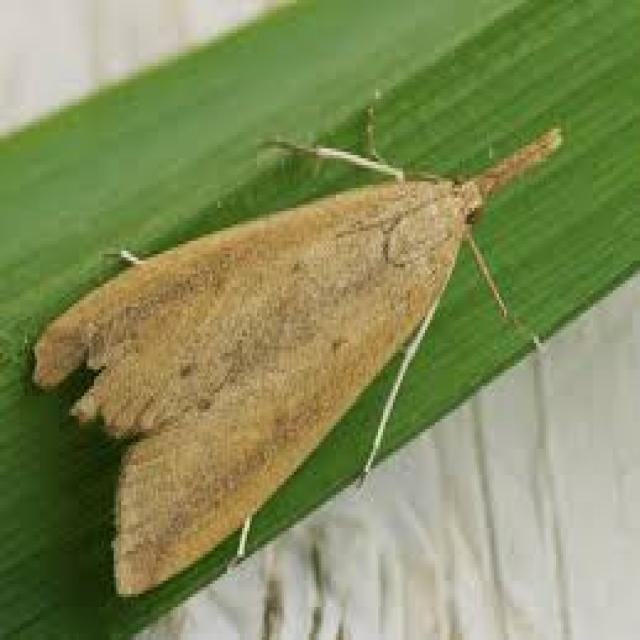yellow-stem-borer: (17, 54, 567, 606)
